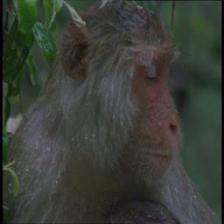monkey: (42, 0, 185, 196)
